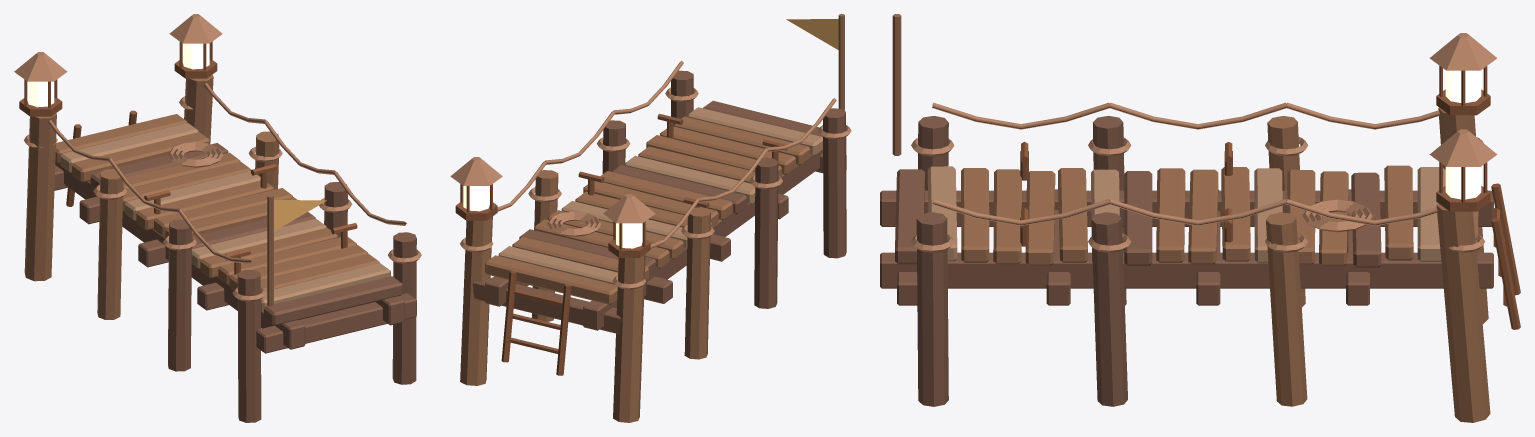
File: harbor_pier.glb
3 views of the same model, side by side, from view 1: azimuth 30°, elevation 25°; view 2: azimuth 150°, elevation 25°; view 3: azimuth 270°, elevation 25° (orthographic). The views are drawn at different scales.
Visible parts, largest first — view 1: HarborPier_Wood, HarborPier_WoodWet, HarborPier_Rust, HarborPier_WoodSunworn, HarborPier_DeepRust, HarborPier_LanternGlow, HarborPier_ReturnOrange; view 2: HarborPier_Wood, HarborPier_WoodWet, HarborPier_Rust, HarborPier_WoodSunworn, HarborPier_DeepRust, HarborPier_LanternGlow, HarborPier_ReturnOrange; view 3: HarborPier_Wood, HarborPier_WoodWet, HarborPier_Rust, HarborPier_WoodSunworn, HarborPier_DeepRust, HarborPier_LanternGlow.
Part boxes in pixels (left/top/right/bottom): HarborPier_Wood: left=24, top=74, right=379, bottom=319; HarborPier_WoodWet: left=54, top=143, right=416, bottom=422; HarborPier_Rust: left=14, top=14, right=421, bottom=301; HarborPier_WoodSunworn: left=60, top=123, right=390, bottom=313; HarborPier_DeepRust: left=19, top=41, right=357, bottom=274; HarborPier_LanternGlow: left=27, top=43, right=209, bottom=107; HarborPier_ReturnOrange: left=274, top=200, right=326, bottom=231; HarborPier_Wood: left=460, top=14, right=844, bottom=422; HarborPier_WoodWet: left=473, top=70, right=846, bottom=333; HarborPier_Rust: left=450, top=60, right=851, bottom=289; HarborPier_WoodSunworn: left=498, top=107, right=822, bottom=284; HarborPier_DeepRust: left=455, top=113, right=787, bottom=375; HarborPier_LanternGlow: left=463, top=186, right=642, bottom=248; HarborPier_ReturnOrange: left=786, top=18, right=838, bottom=49; HarborPier_Wood: left=892, top=14, right=1490, bottom=422; HarborPier_WoodWet: left=880, top=115, right=1493, bottom=406; HarborPier_Rust: left=911, top=33, right=1497, bottom=252; HarborPier_WoodSunworn: left=927, top=166, right=1445, bottom=263; HarborPier_DeepRust: left=1020, top=65, right=1520, bottom=329; HarborPier_LanternGlow: left=1445, top=70, right=1481, bottom=199.
Bounding box in the file's own units: 1.69 × 2.01 × 3.77.
